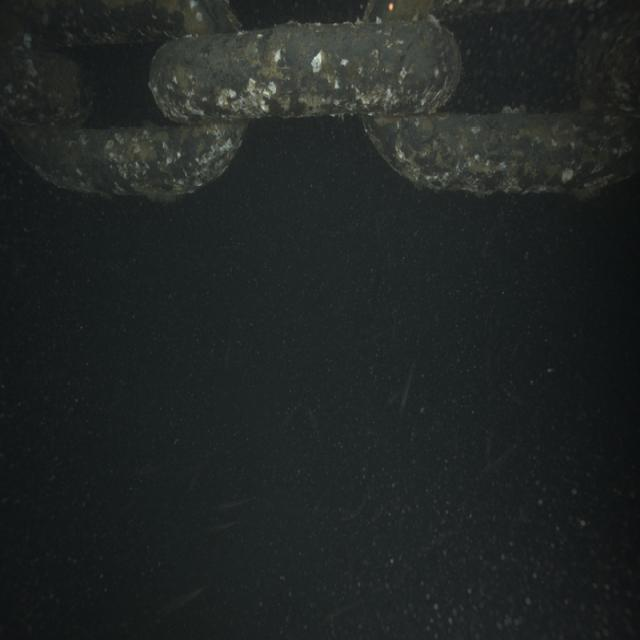ChainLink: (364, 0, 640, 197), (150, 19, 460, 123), (8, 121, 246, 201), (0, 0, 239, 48), (0, 48, 90, 124)
